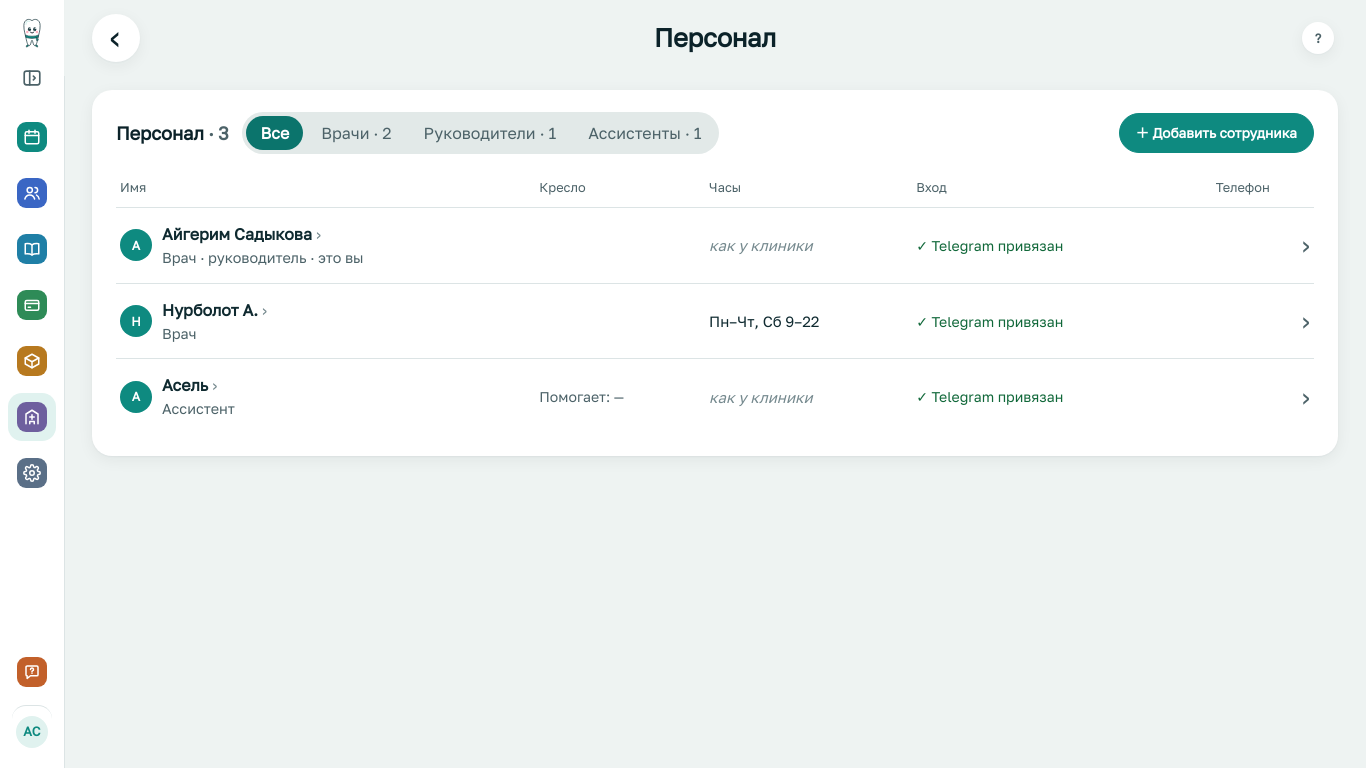
it: карточка врача: вместо редактора недели — строка «свои часы · выходной»; нажатие — «График» с его редактором
Click the button "Нурболот А.": (215, 310) [162,298,267,322]
(page scrolled)
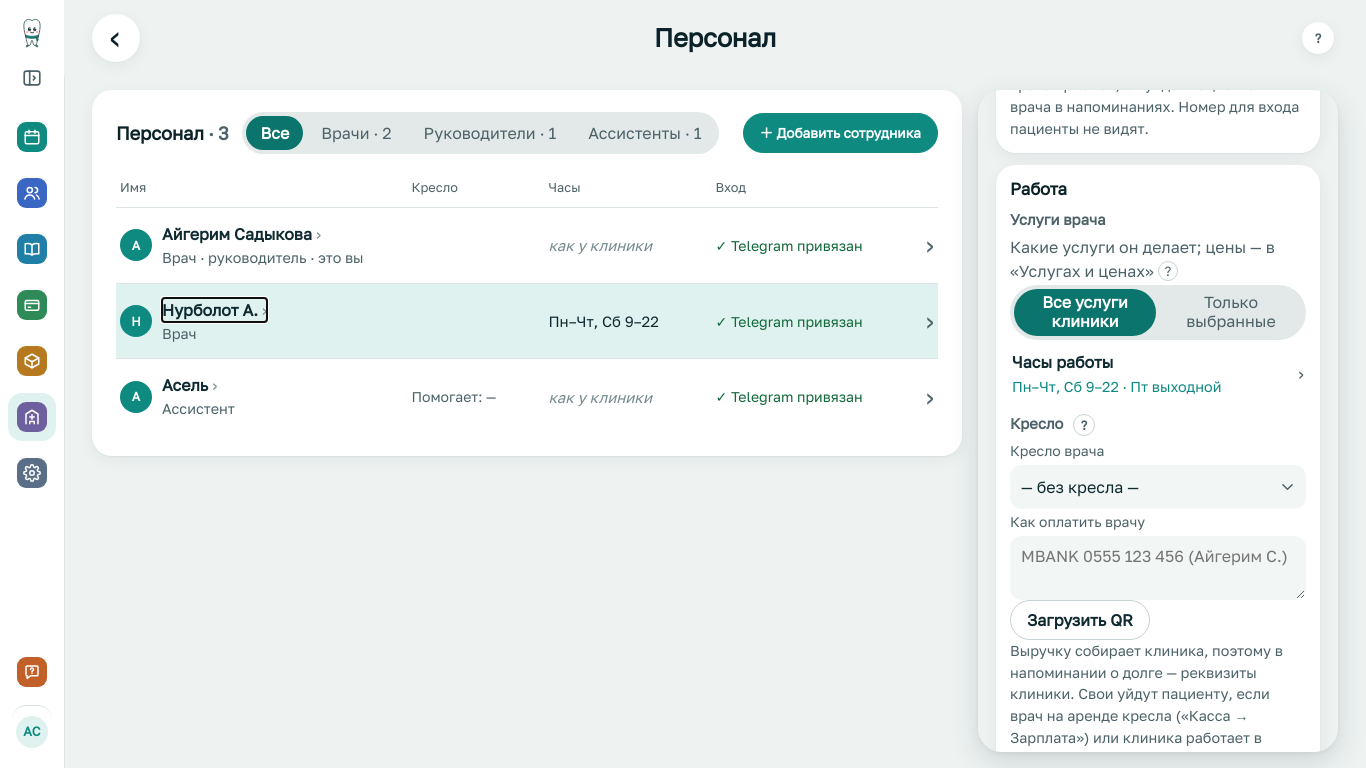
Expected: the button "Свои часы" is not shown
Click the button named "Часы работы: Пн–Чт, Сб 9–22 · Пт выходной — открыть в «Рабочем времени»": (1063, 362) [1010,342,1306,405]
(page scrolled)
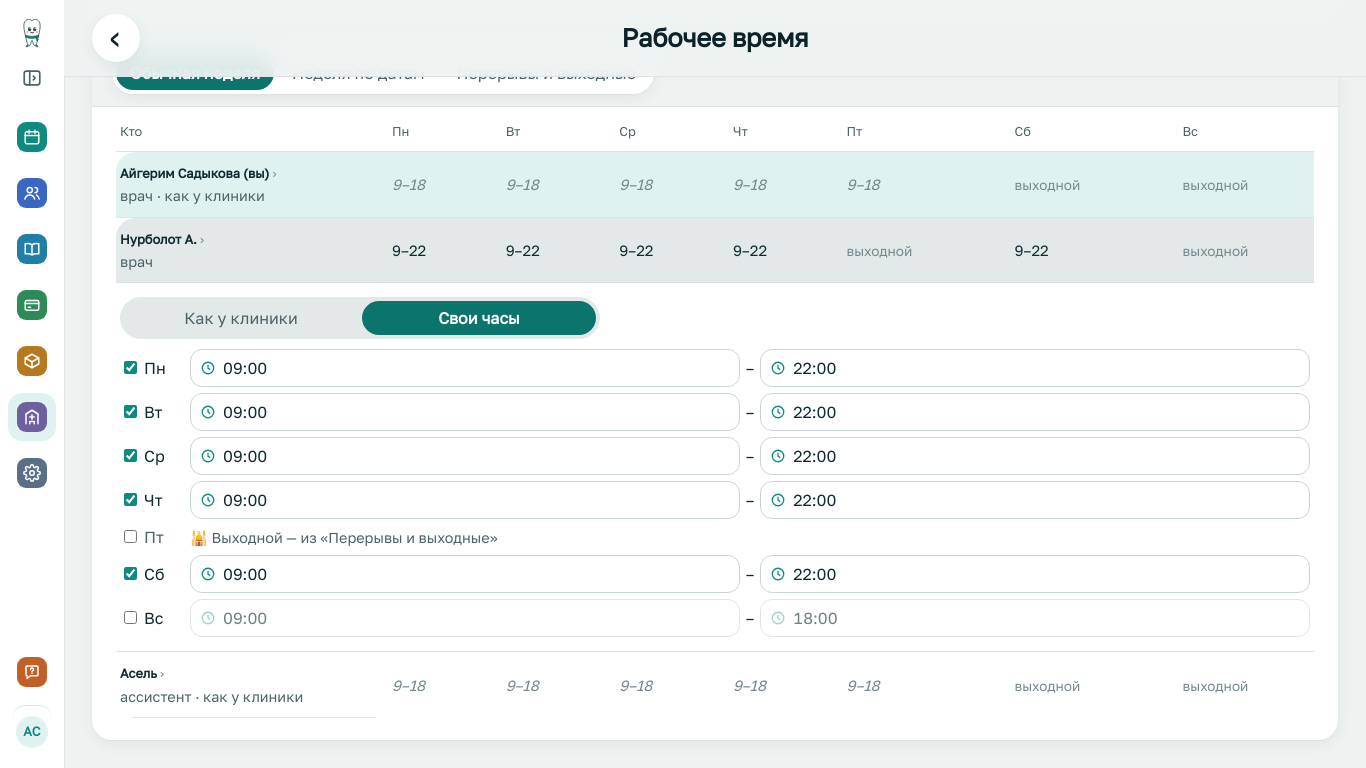
Expected: the button "Нурболот А." is expanded, [120,230,360,249]
Expected: the button "Айгерим Садыкова (вы)" is collapsed, [120,164,360,183]
